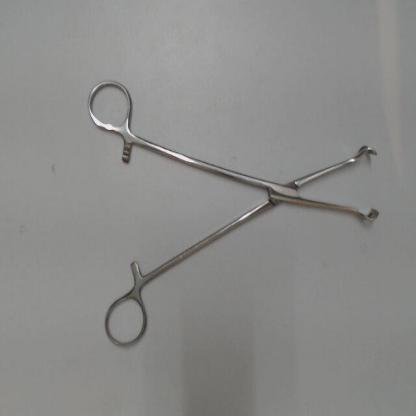8 Babcock Tissue Forceps: (76, 71, 386, 354)
